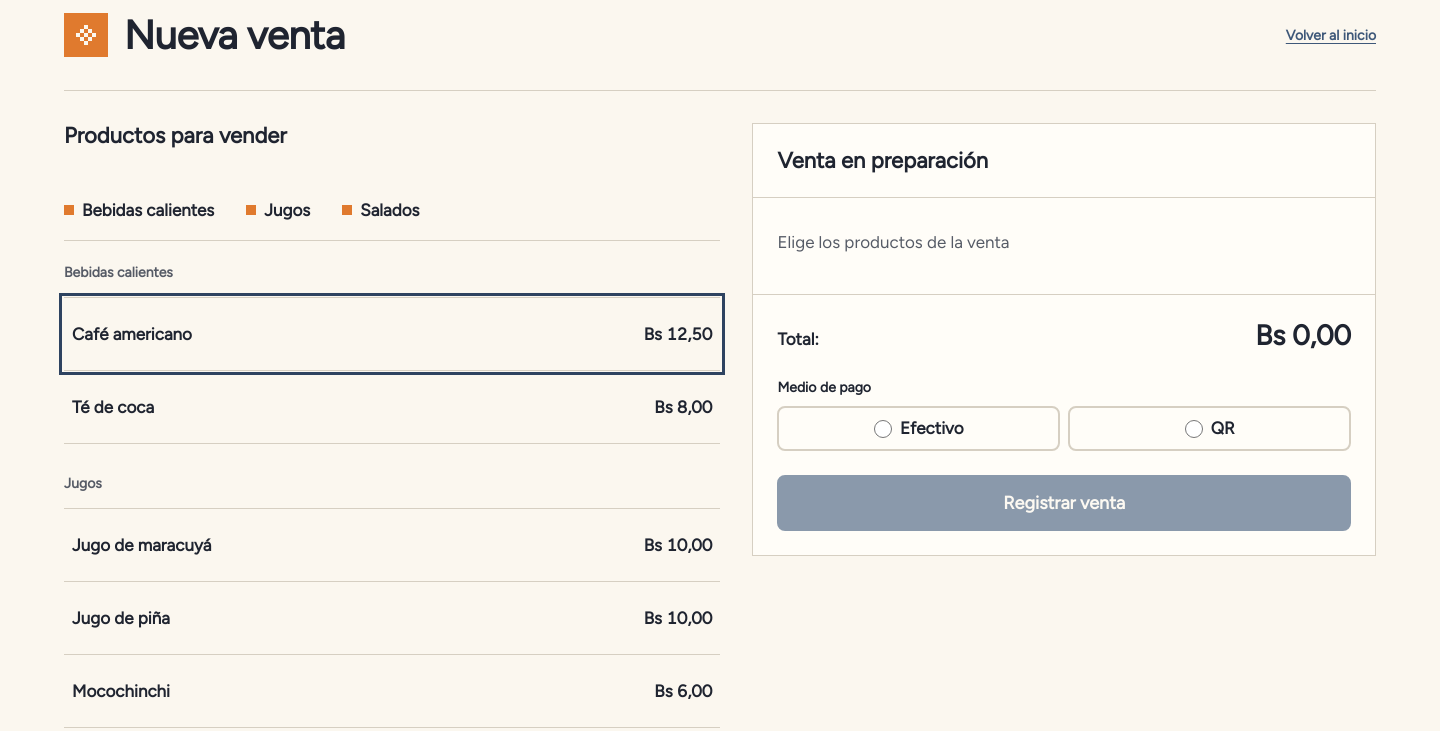
registrar la venta (RF-6 a RF-9, RNF-4) › registra con Efectivo y muestra la confirmación hasta agregar otro producto
Expected: the button "Registrar venta" is disabled, [777,475,1351,531]
Expected: the radio button labelled "Efectivo" is not checked, [874,420,892,438]
Press Enter
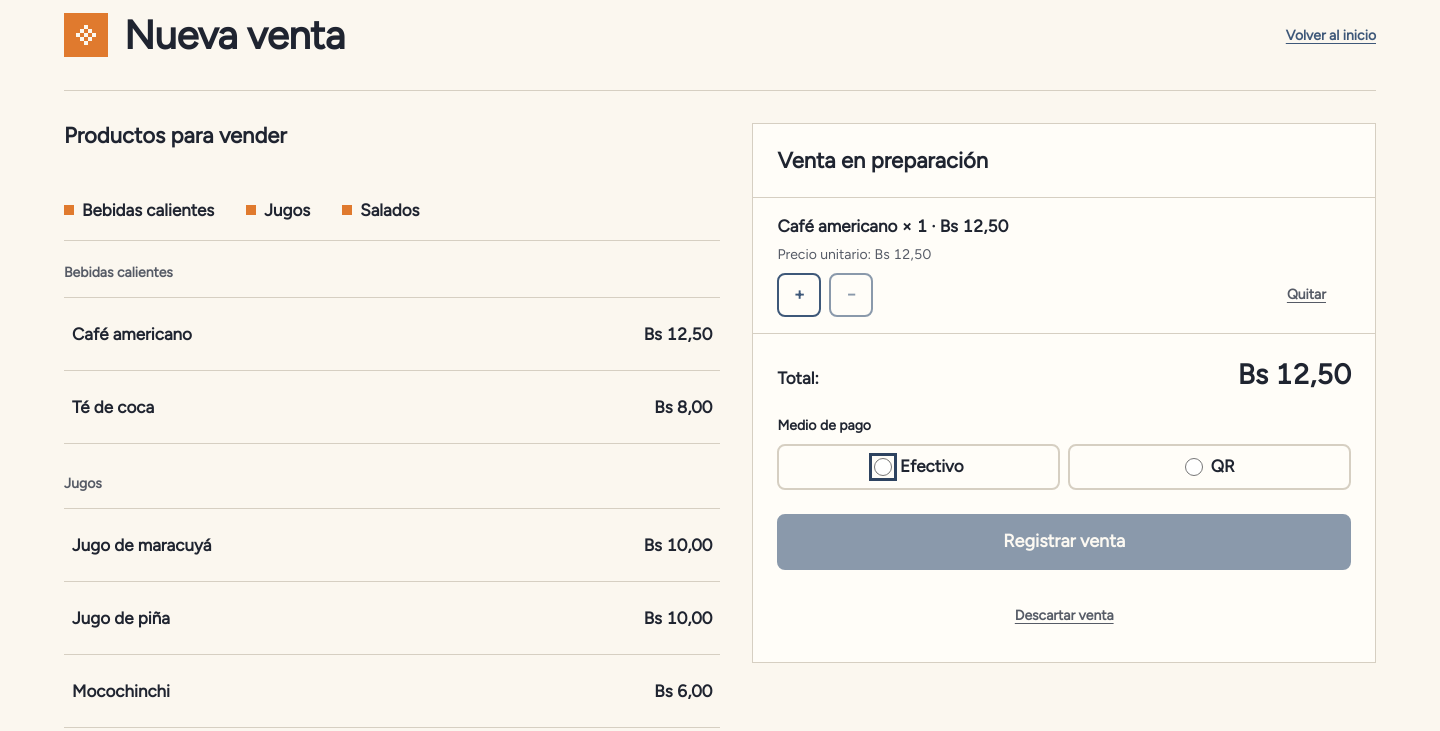
Expected: the button "Registrar venta" is disabled, [777,514,1351,570]
Type keys " "
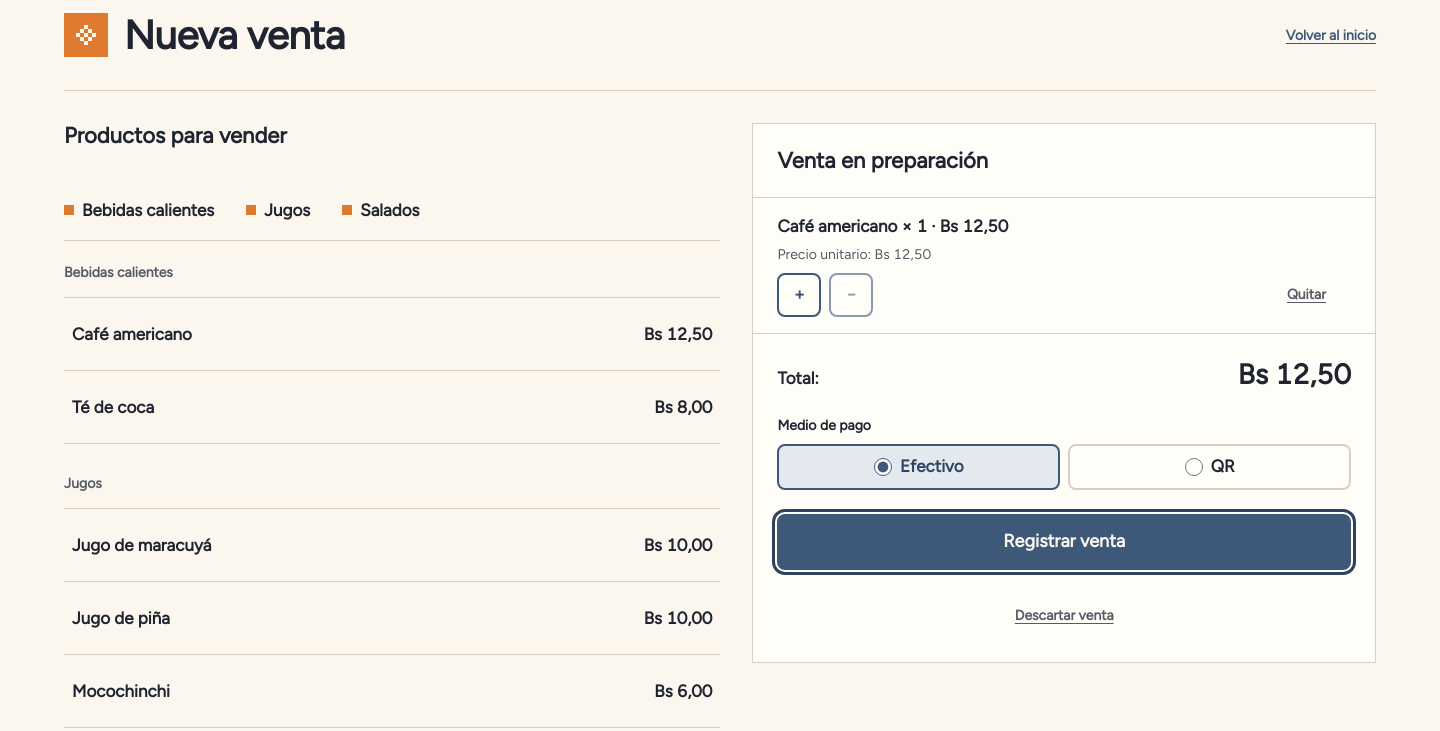
Press Enter
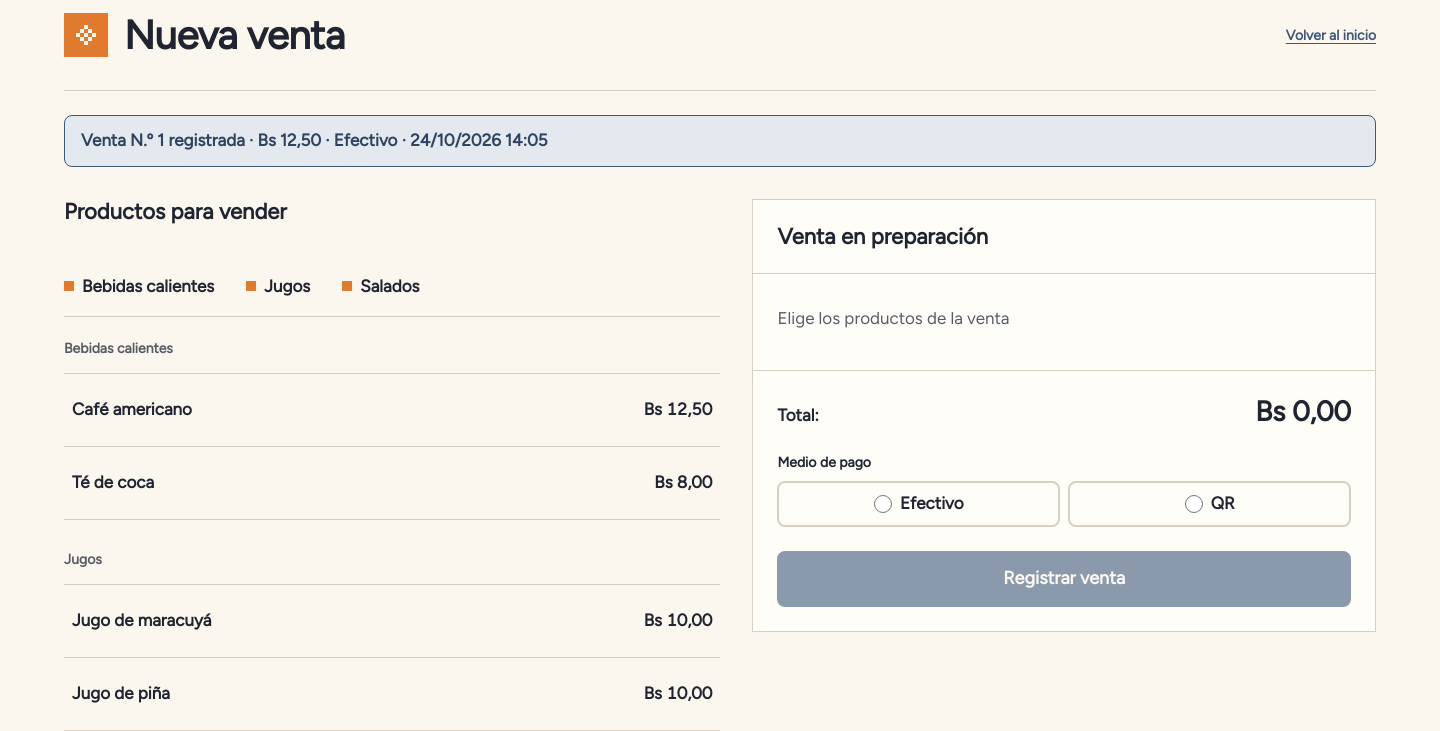
Expected: the text "Venta N.º 1 registrada · Bs 12,50 · Efectivo · 24/10/2026 14:05" is shown, [64,115,1376,166]
Expected: the text "Elige los productos de la venta" is shown, [777,308,1010,328]
Expected: the radio button labelled "Efectivo" is not checked, [874,495,892,513]
Click the button with aria-label "Café americano · Bs 12,50" at coordinates (132, 409), box [64,374,720,446]
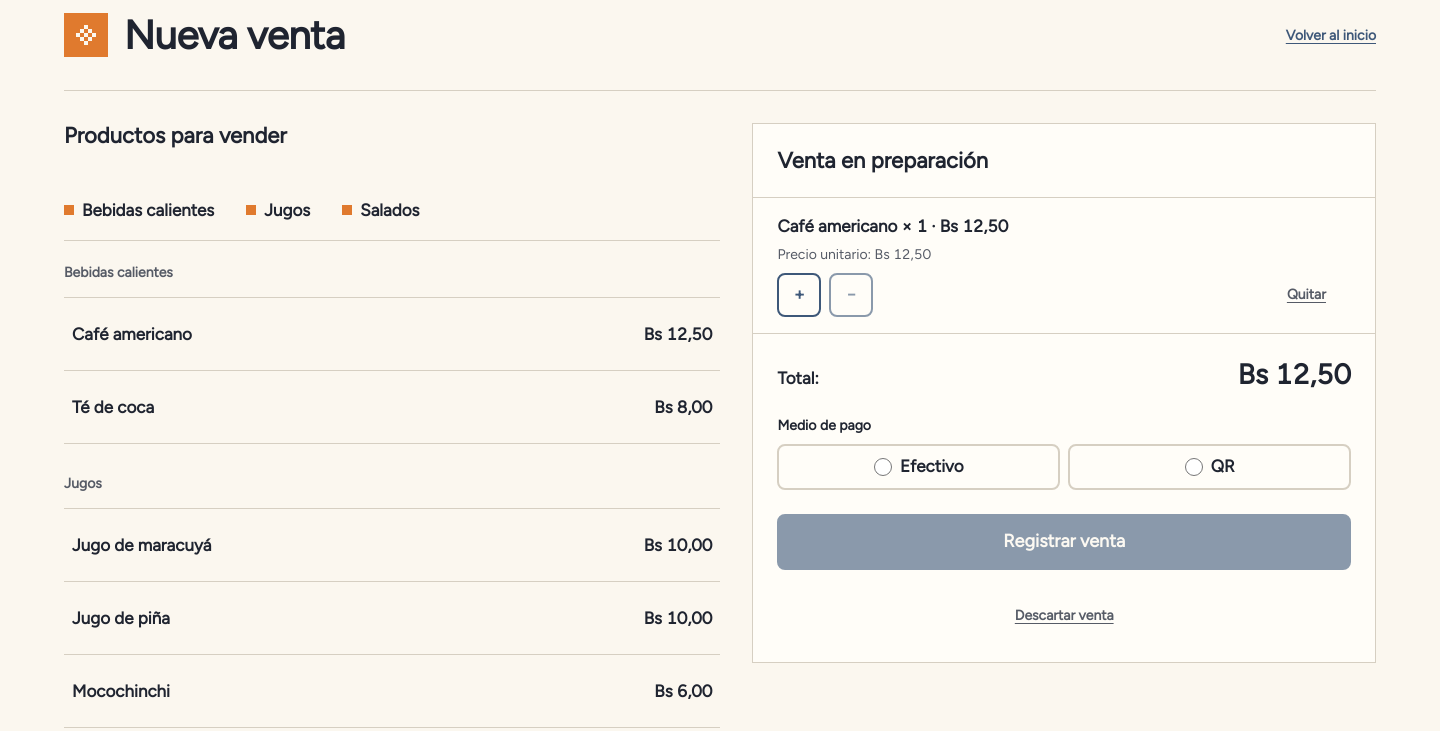
Expected: the text "Venta N.º 1 registrada" is gone
Click the radio button labelled "Efectivo" at coordinates (883, 467), box [874,458,892,476]
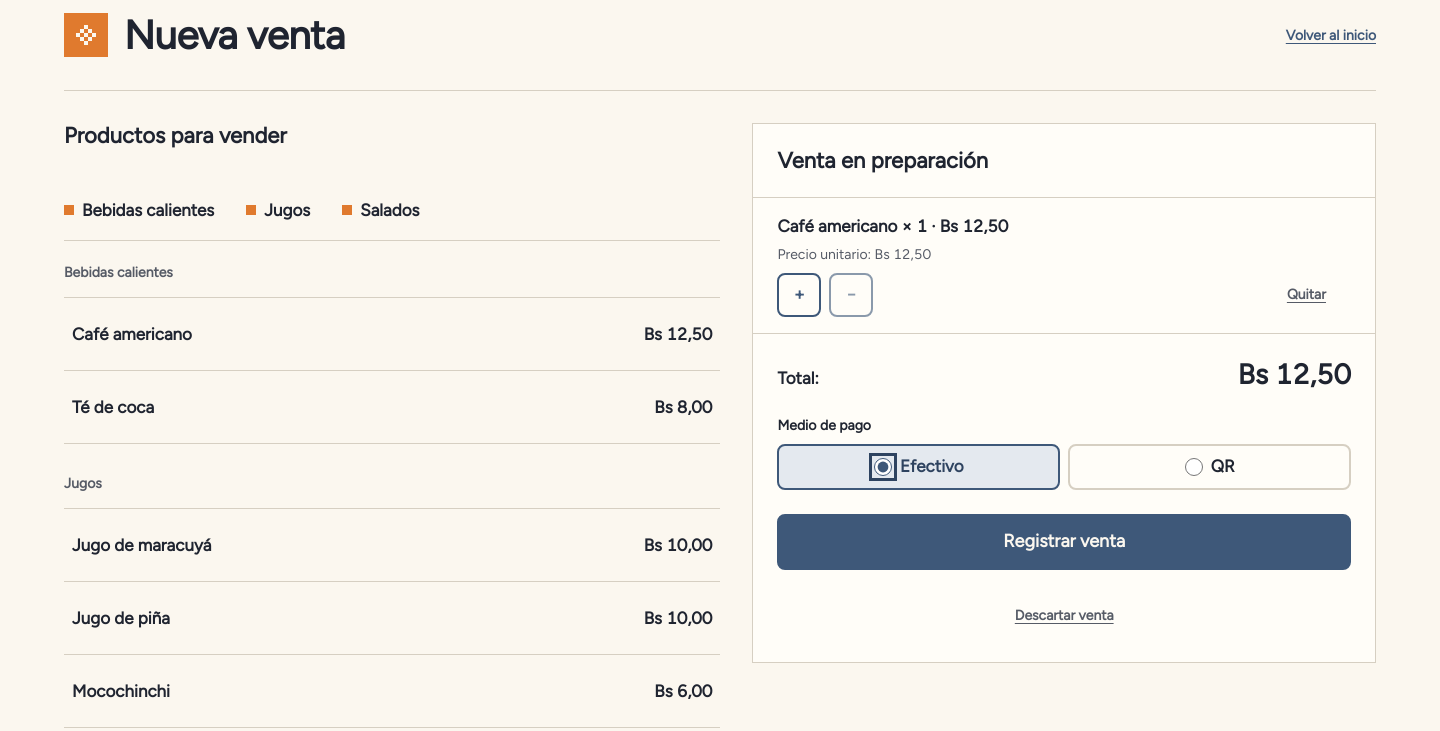
Click the button "Registrar venta" at coordinates (1064, 542), box [777,514,1351,570]
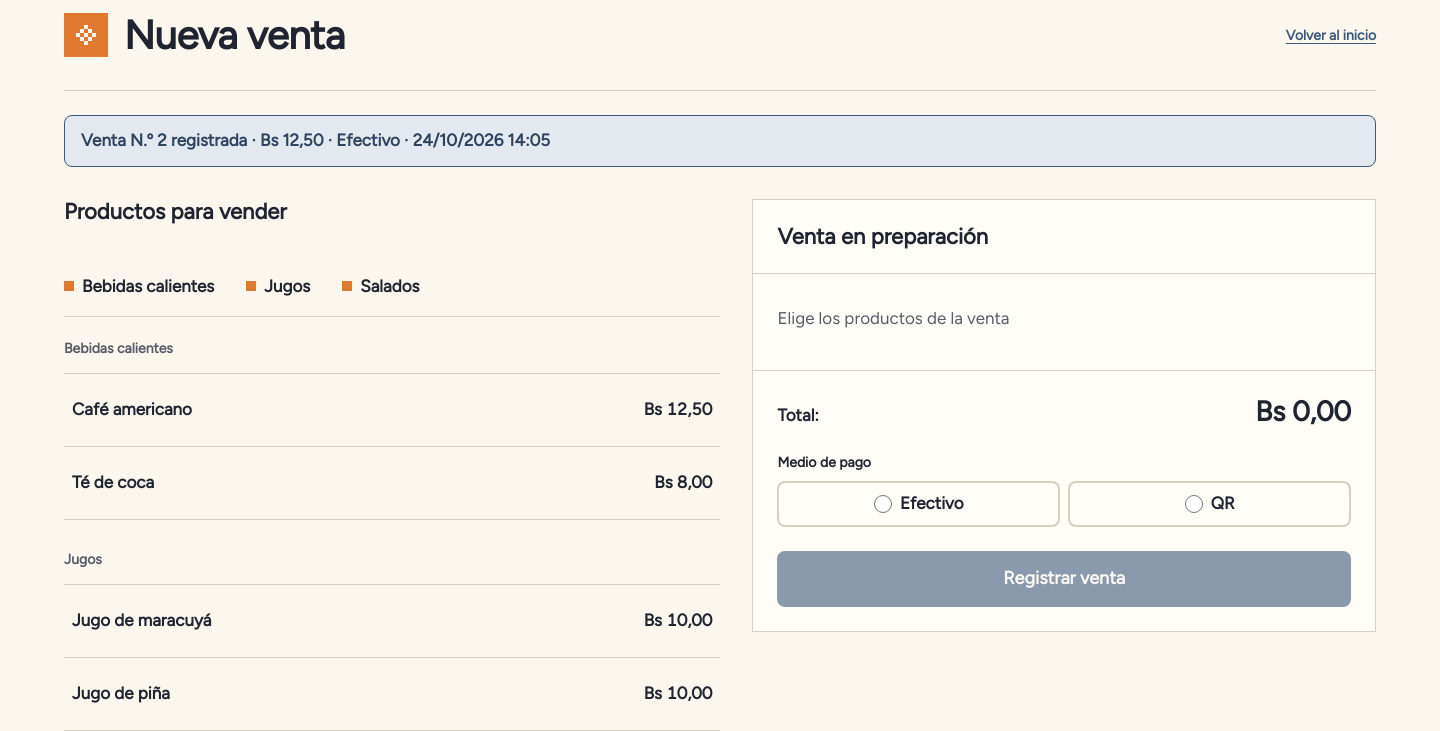
Expected: the text "Venta N.º 2 registrada · Bs 12,50 · Efectivo · 24/10/2026 14:05" is shown, [64,115,1376,166]
